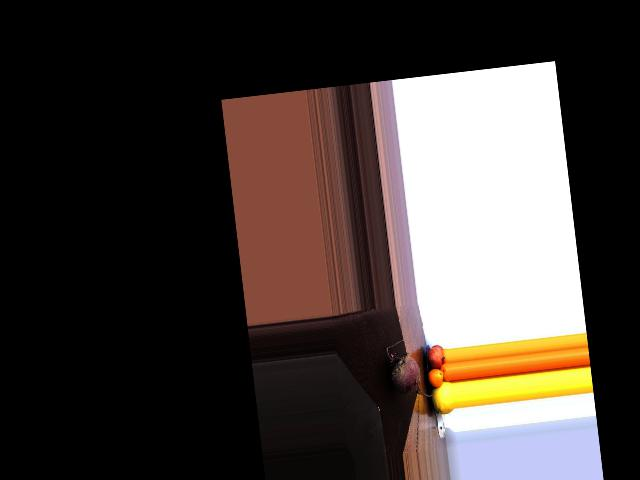beet: (385, 337, 436, 401)
